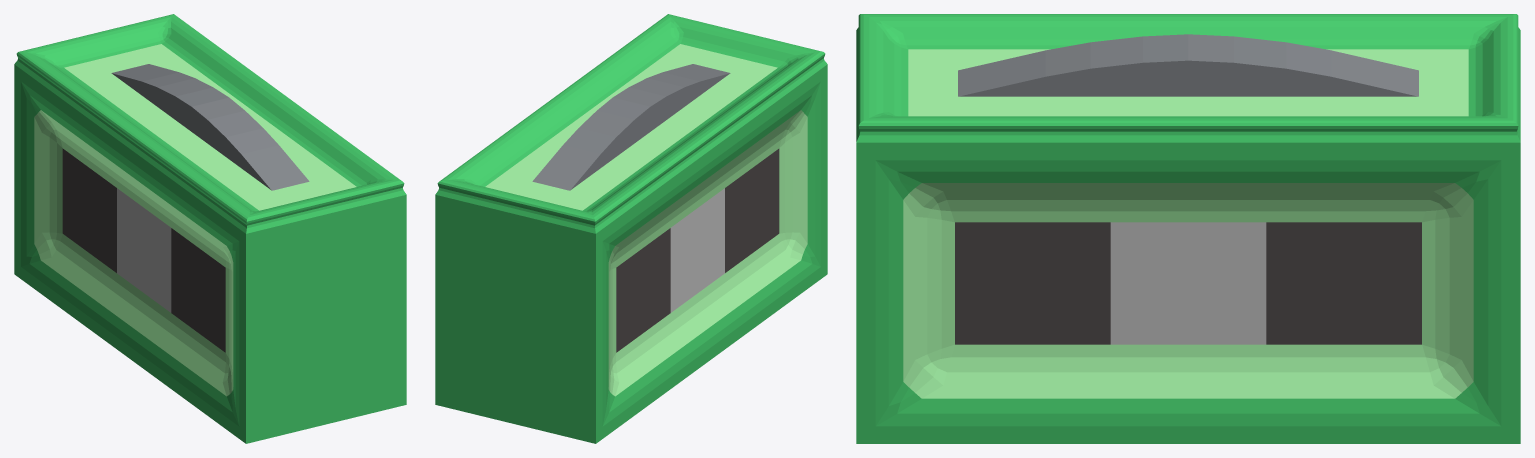
File: Ammo Box_3DModel_3.fbx
3 views of the same model, side by side, from view 1: azimuth 30°, elevation 25°; view 2: azimuth 150°, elevation 25°; view 3: azimuth 270°, elevation 25° (orthographic). The views are drawn at different scales.
Parts seen in each view (by area): view 1: Ammo Box; view 2: Ammo Box; view 3: Ammo Box.
Part boxes in pixels (x1,y1,x2,y2): Ammo Box: (14, 14, 406, 443); Ammo Box: (435, 14, 827, 443); Ammo Box: (856, 14, 1520, 443).
Size of the model in its own units: 0.2 by 0.2825 by 0.5.
